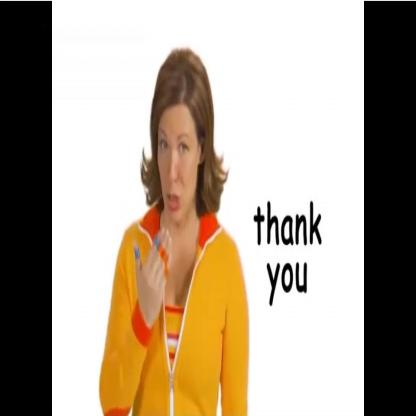ThankYou: (131, 38, 225, 333)
